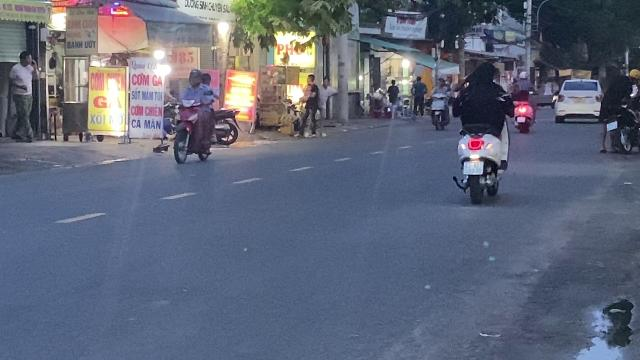helmet: (187, 68, 203, 86)
licenseplate: (464, 162, 484, 174)
motorcyclist: (451, 54, 511, 204), (171, 68, 217, 164)
nohelmet: (462, 60, 496, 98)
